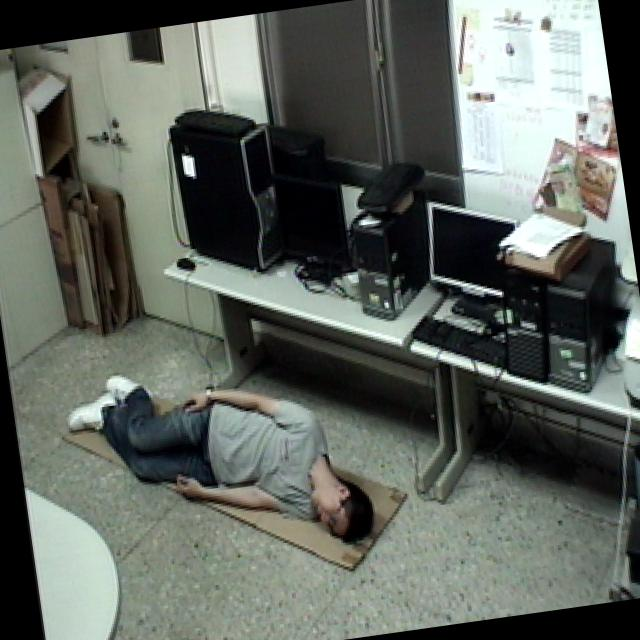lie: (54, 336, 387, 596)
